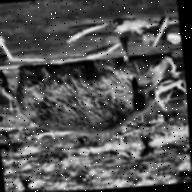boar: (0, 33, 190, 154)
